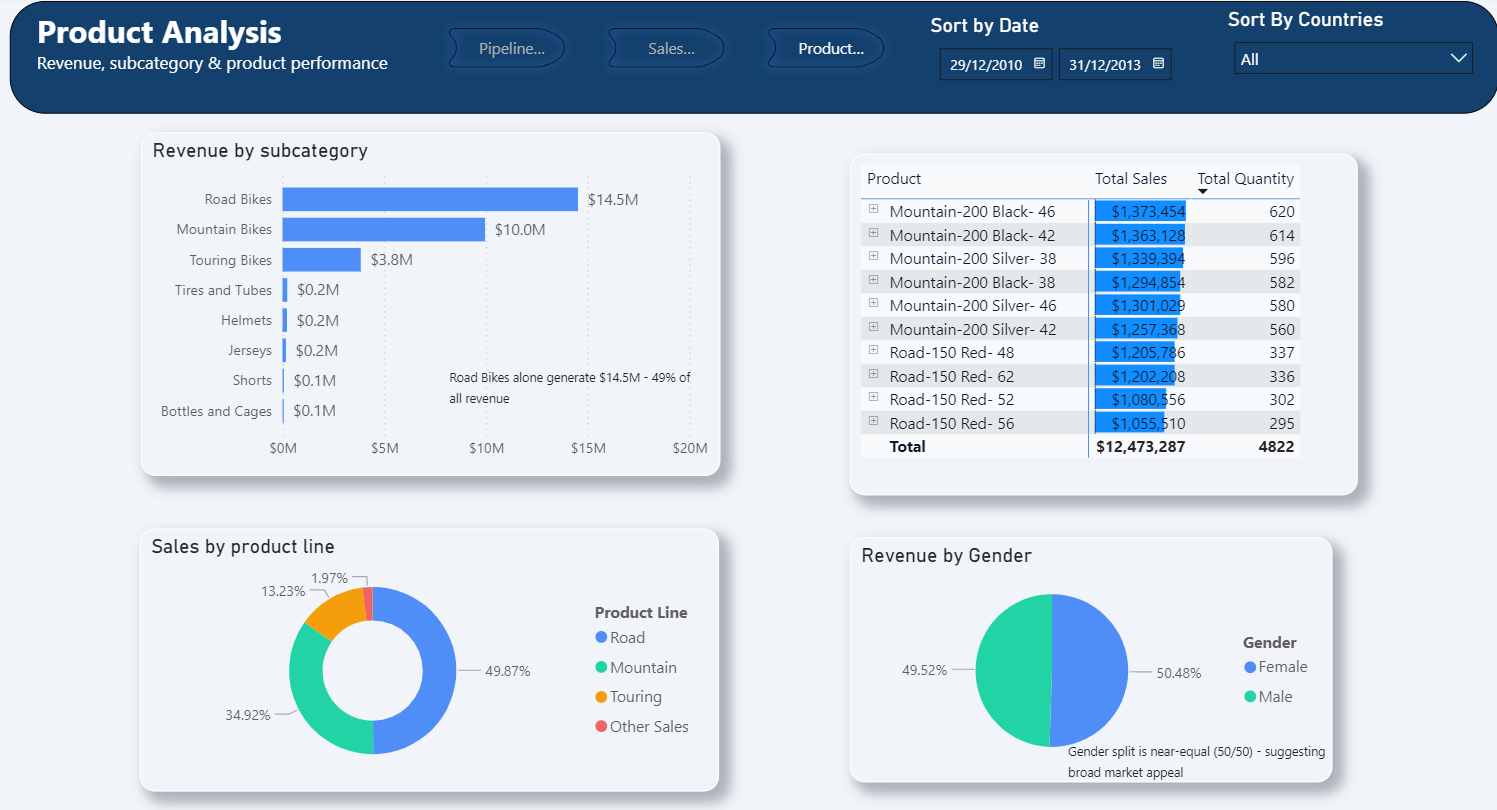

The dashboard page shown, as its layout file describes it:
{"tool":"powerbi","page":{"name":"Product Analysis","canvas":[1280,720],"ordinal":2},"visuals":[{"type":"textbox","box":[11.2,3.8,1268.8,96.2],"z":0},{"type":"slicer","title":"Sort by Date","fields":{"Values":["gold fact_sales.order_date"]},"box":[791.2,15,238.8,78.8],"z":1000},{"type":"textbox","box":[30,6.2,340,75],"z":2000},{"type":"clusteredBarChart","title":"Revenue by subcategory","fields":{"Category":["gold dim_products.subcategory"],"Y":["gold fact_sales.Total Sales"]},"box":[29.7,115.4,587.8,292.7],"z":3000},{"type":"donutChart","title":"Sales by product line","fields":{"Category":["gold dim_products.product_line"],"Y":["gold fact_sales.Total Sales"]},"box":[29.7,455.7,586.6,223.7],"z":4000},{"type":"pivotTable","title":"Top 10 Products","fields":{"Rows":["gold dim_products.product_name","gold dim_products.category"],"Values":["gold fact_sales.Total Sales","gold fact_sales.Total Quantity"]},"box":[727,116.6,522.3,291.5],"z":5000},{"type":"pageNavigator","box":[371,27.9,405.2,53.2],"z":6000},{"type":"pieChart","title":"Revenue by Gender","fields":{"Category":["gold dim_customers.gender"],"Y":["gold fact_sales.Total Sales"]},"box":[727,452.1,522.3,229.6],"z":7000},{"type":"textbox","box":[371,302.3,227.9,57],"z":8000},{"type":"textbox","box":[1004.2,606.8,234.4,58.3],"z":9000},{"type":"slicer","title":"Select Country","fields":{"Values":["gold dim_customers.country"]},"box":[1036.3,11.9,223.7,78.5],"z":10000}]}

Visuals, with their boxes on the page's 1280x720 design canvas (x1, y1, x2, y2). These are canvas units, not pixel positions in the 1497x810 screenshot, which may show the page scaled, cropped or inside an application window:
textbox: bbox=[11, 4, 1280, 100]
"Sort by Date" slicer: bbox=[791, 15, 1030, 94]
textbox: bbox=[30, 6, 370, 81]
"Revenue by subcategory" clusteredBarChart: bbox=[30, 115, 618, 408]
"Sales by product line" donutChart: bbox=[30, 456, 616, 679]
"Top 10 Products" pivotTable: bbox=[727, 117, 1249, 408]
pageNavigator: bbox=[371, 28, 776, 81]
"Revenue by Gender" pieChart: bbox=[727, 452, 1249, 682]
textbox: bbox=[371, 302, 599, 359]
textbox: bbox=[1004, 607, 1239, 665]
"Select Country" slicer: bbox=[1036, 12, 1260, 90]
